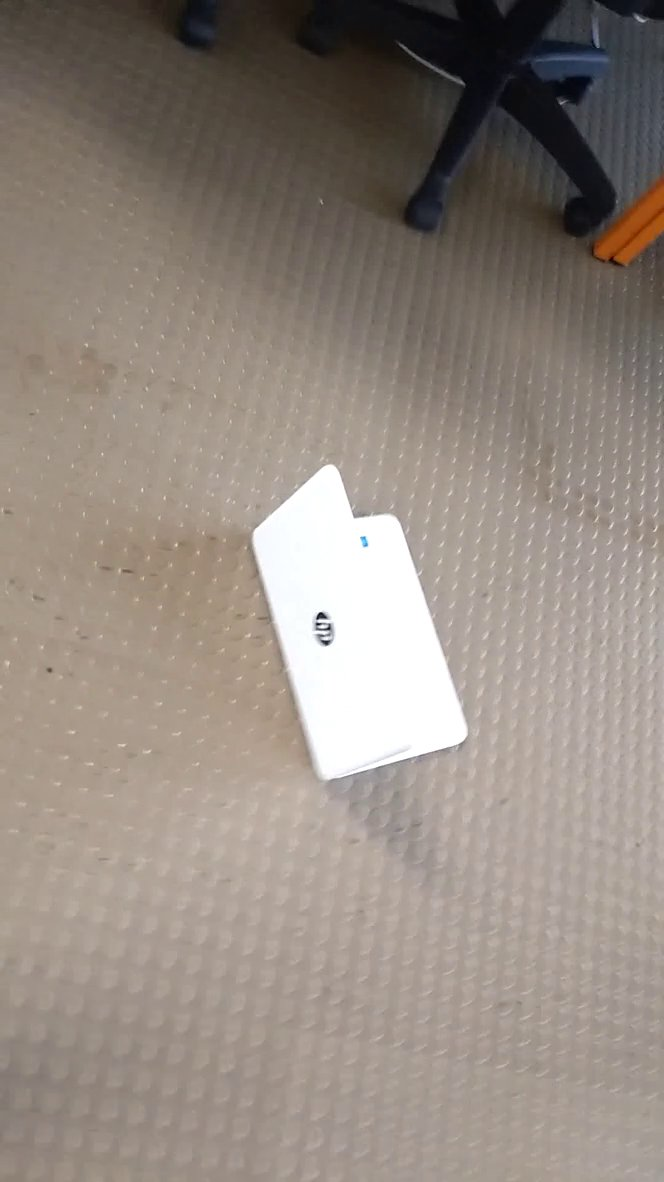laptop: (244, 451, 476, 798)
